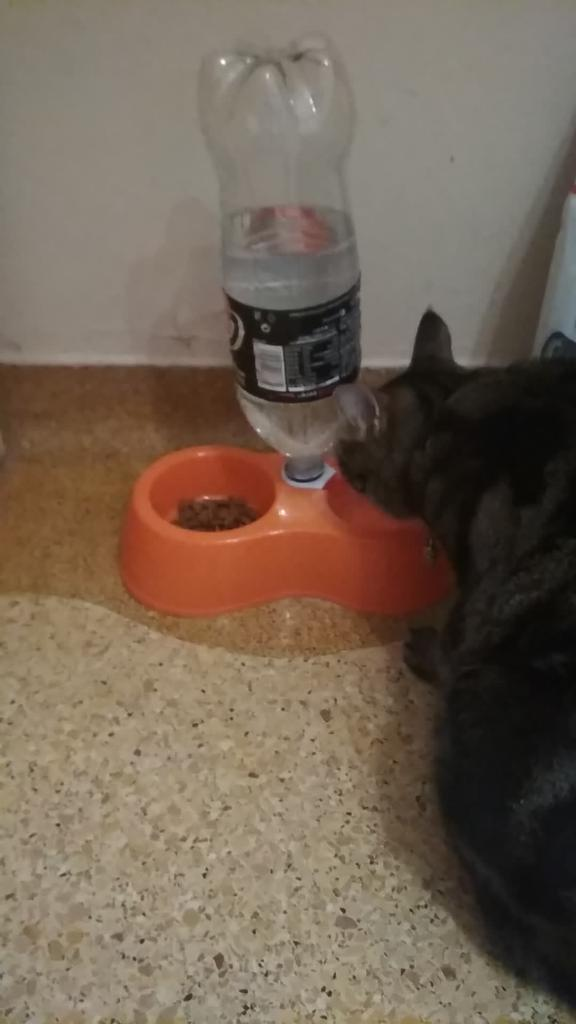plastic_bottle: (192, 34, 371, 493)
